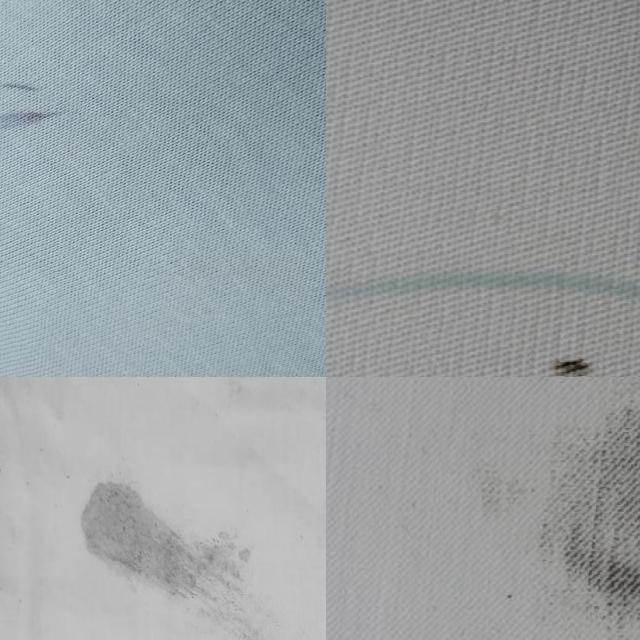Thread_other: (417, 377, 640, 640), (52, 458, 326, 640), (504, 318, 639, 377), (0, 64, 69, 163)
